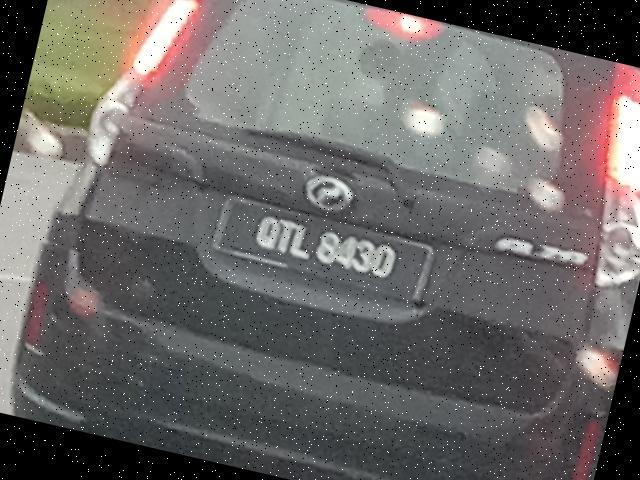License_Plate: (210, 194, 437, 308)
car: (1, 1, 640, 480)
